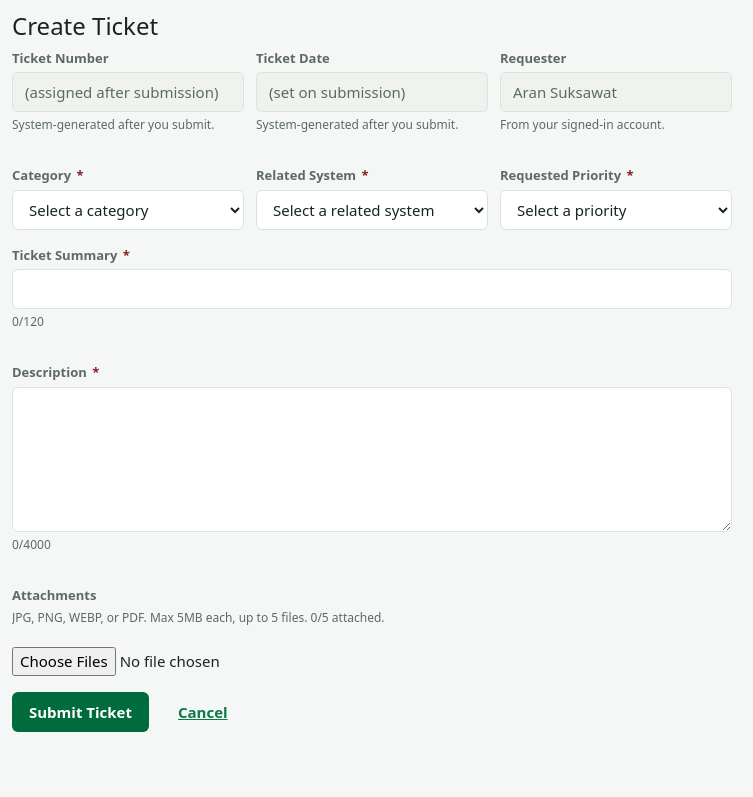
Create Ticket screen › shows a failure banner and keeps every entered value when the request fails
Expected: the dropdown labelled "Category *" is shown, x1=12 y1=190 x2=244 y2=230
In the field labelled "Ticket Summary *": (372, 289) x1=12 y1=269 x2=732 y2=309, type "Laptop battery drains quickly"
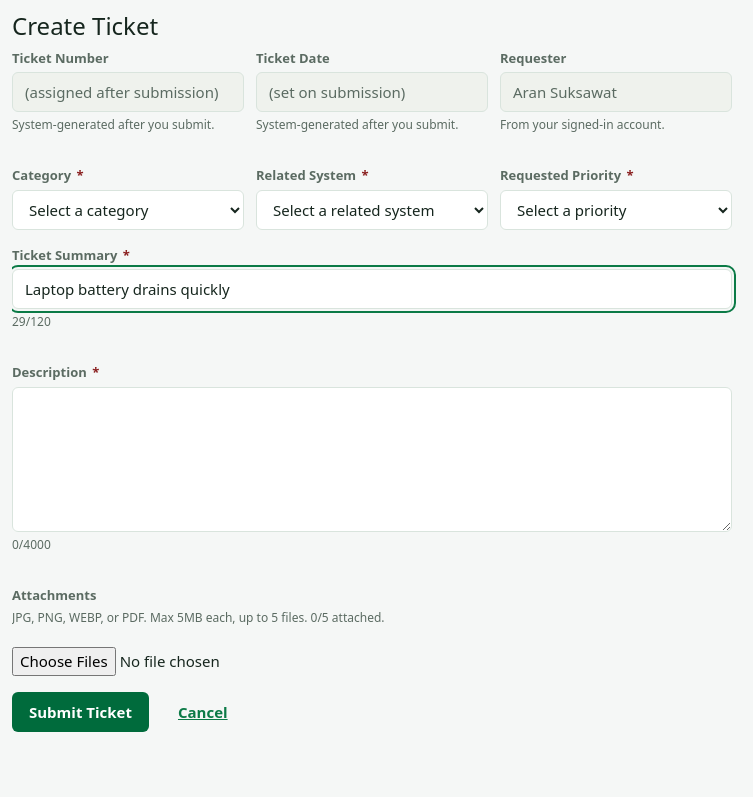
In the text box labelled "Description *": (372, 459) x1=12 y1=387 x2=732 y2=532, type "The battery on my corporate laptop drains from full to empty within about two hours."
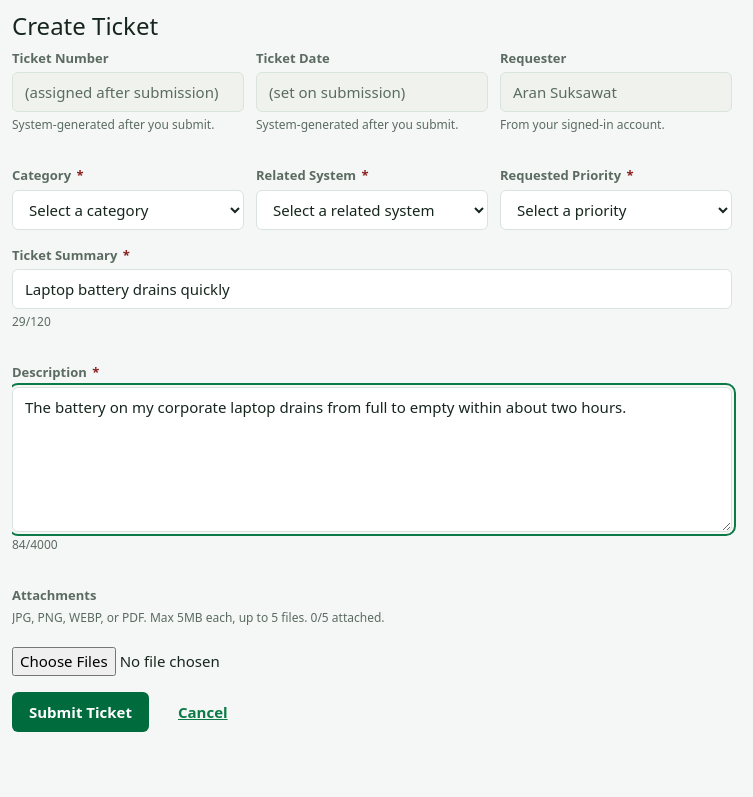
Select "Hardware" in the dropdown labelled "Category *": (128, 210) x1=12 y1=190 x2=244 y2=230
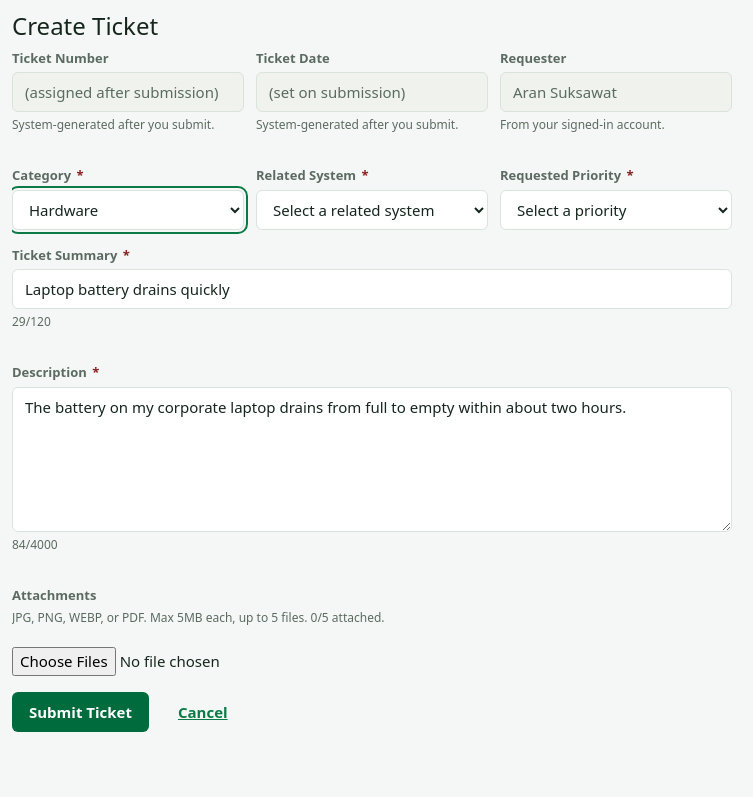
Select "Corporate Laptop" in the dropdown labelled "Related System *": (372, 210) x1=256 y1=190 x2=488 y2=230
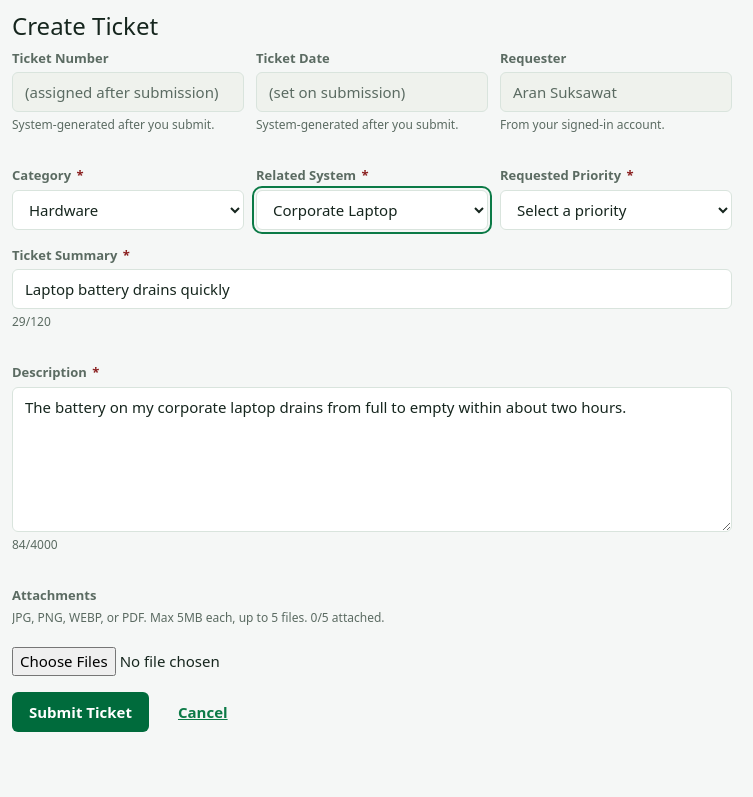
Select "Medium" in the dropdown labelled "Requested Priority *": (616, 210) x1=500 y1=190 x2=732 y2=230
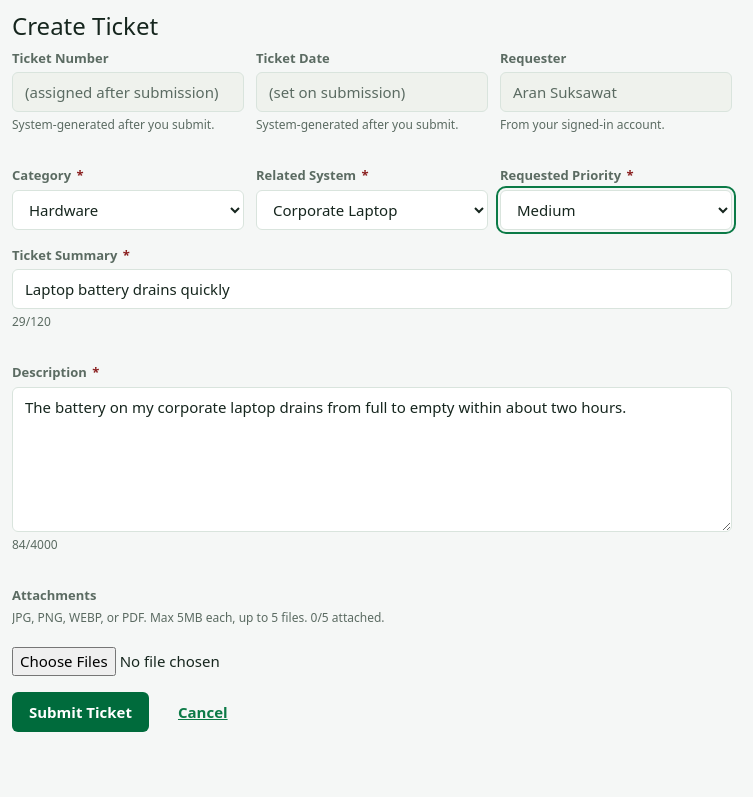
Click the button "Submit Ticket": (80, 712) x1=12 y1=692 x2=149 y2=732
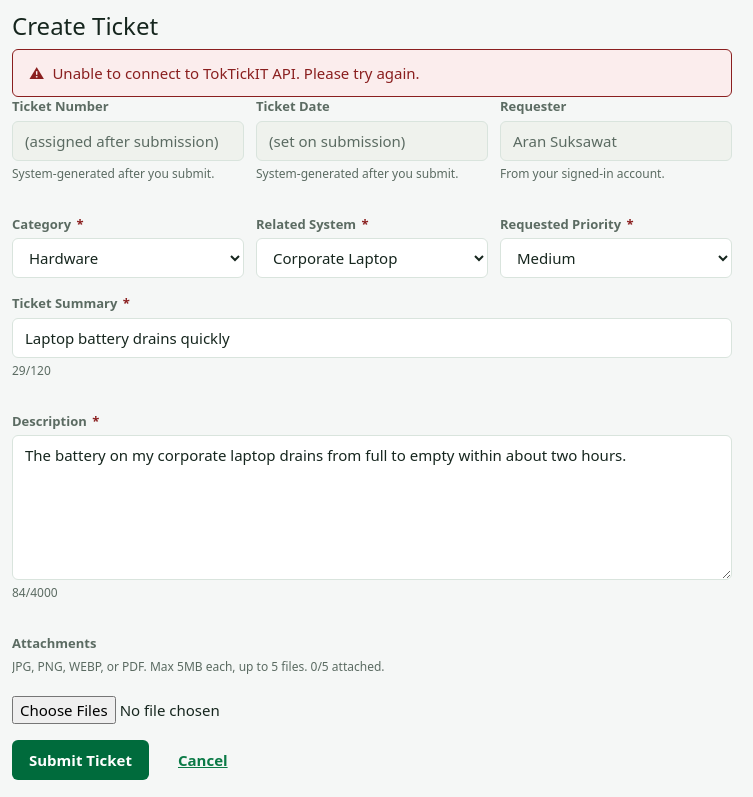
Now the text "Unable to connect to TokTickIT API. Please try again." is shown, box x1=52 y1=62 x2=420 y2=84
